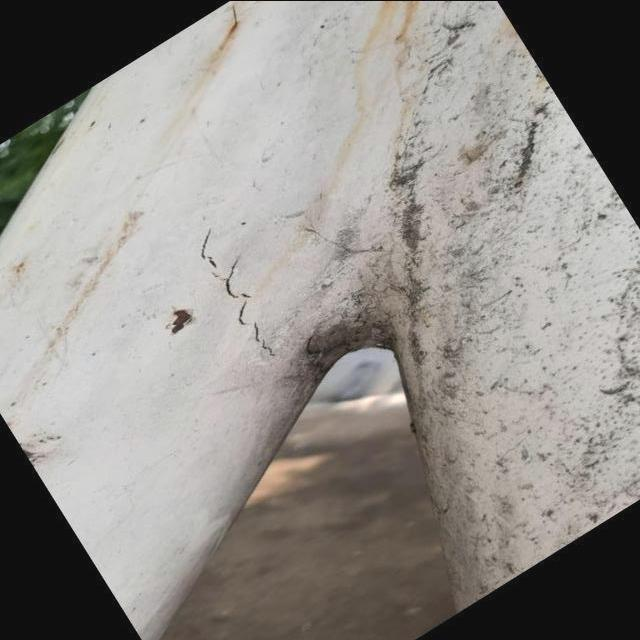defect: (189, 217, 290, 361)
